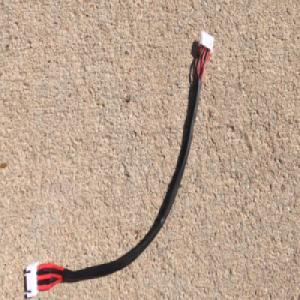Wire: (22, 23, 214, 293)
